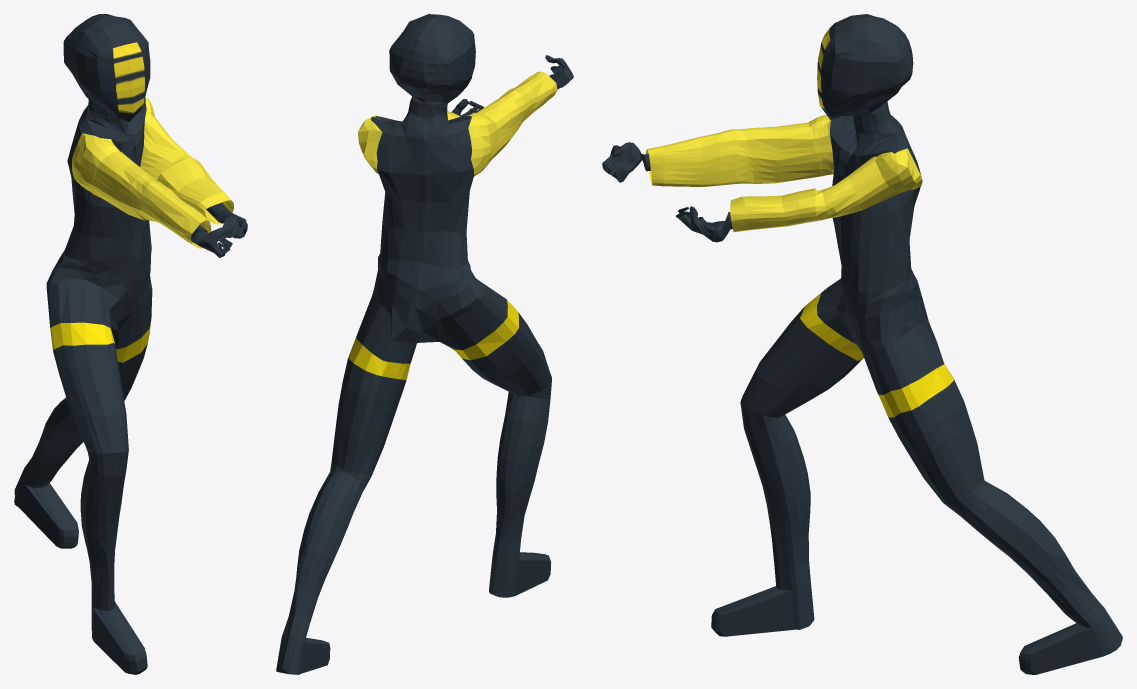
The model's file is Sentry_Attack_000028.obj.
The picture shows the model from 3 angles, left to right: view 1: azimuth 30°, elevation 25°; view 2: azimuth 150°, elevation 25°; view 3: azimuth 270°, elevation 25°; orthographic projection. The views are drawn at different scales.
Visible parts, largest first — view 1: Cube; view 2: Cube; view 3: Cube.
Boxes of the visible parts, x1,y1,x2,y2 form: Cube: (14,14,247,674); Cube: (276,14,573,674); Cube: (602,14,1122,674).
Bounding box in the file's own units: 0.9143 × 3.73 × 2.76.
